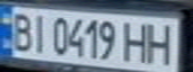0: (48, 14, 69, 56)
1: (81, 16, 100, 60)
4: (66, 16, 87, 58)
9: (96, 17, 121, 61)
B: (6, 9, 36, 52)
H: (145, 19, 181, 65), (121, 18, 154, 63)
I: (27, 11, 51, 54)
